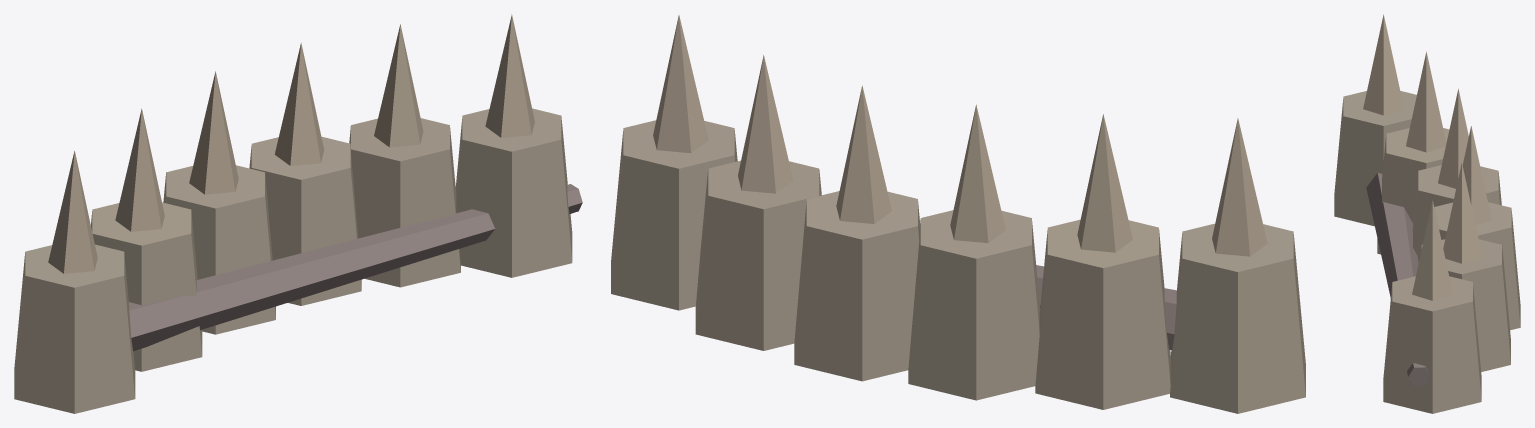
The model's file is map-exclusive-v3__dragon_08.glb.
3 views of the same model, side by side, from view 1: azimuth 30°, elevation 25°; view 2: azimuth 150°, elevation 25°; view 3: azimuth 270°, elevation 25° (orthographic). The views are drawn at different scales.
Parts seen in each view (by area): view 1: dragon_08; view 2: dragon_08; view 3: dragon_08.
Boxes of the visible parts, box(x1,y1,x2,y2) form: dragon_08: box(14, 14, 582, 413); dragon_08: box(611, 15, 1305, 413); dragon_08: box(1334, 14, 1520, 413).
Size of the model in its own units: 2.14 by 0.815 by 0.7208.
